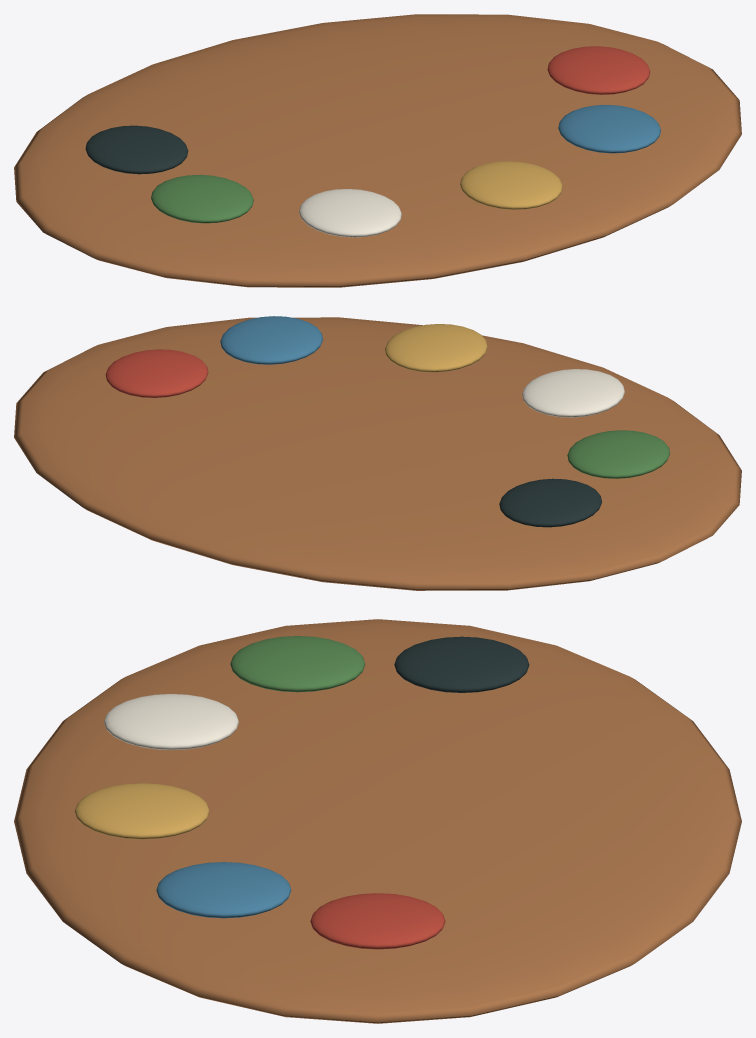
Rendered from wp-palette-de-peintre.glb.
The picture shows the model from 3 angles, top to bottom: view 1: azimuth 30°, elevation 25°; view 2: azimuth 150°, elevation 25°; view 3: azimuth 270°, elevation 25°; orthographic projection. The views are drawn at different scales.
Visible parts, largest first — view 1: wp-palette-de-peintre; view 2: wp-palette-de-peintre; view 3: wp-palette-de-peintre.
Boxes of the visible parts, box(x1,y1,x2,y2) form: wp-palette-de-peintre: box(14, 14, 741, 287); wp-palette-de-peintre: box(14, 316, 741, 590); wp-palette-de-peintre: box(14, 619, 741, 1023).
Bounding box in the file's own units: 0.3 × 0.025 × 0.23.
